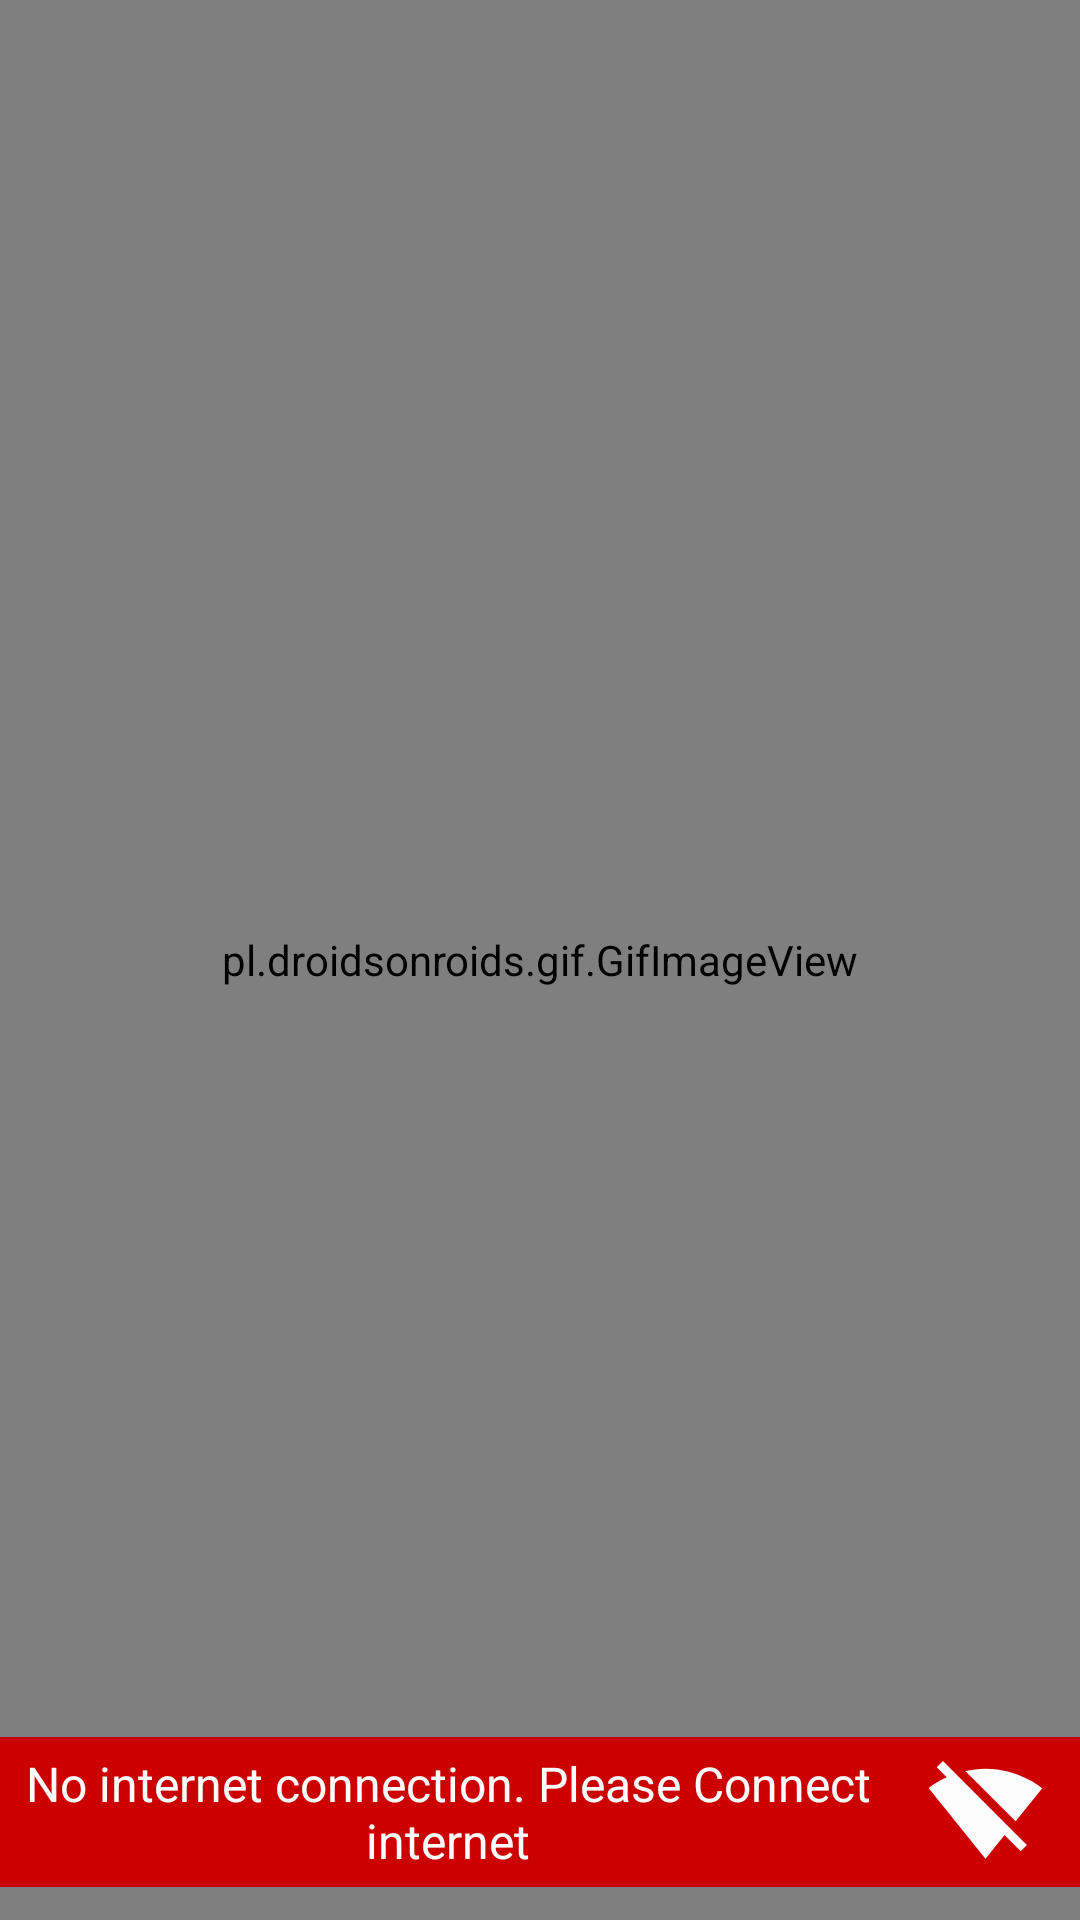

Named icons in this screenshot (1080 x 1920) and their bounding boxes, (x1, y1, x2, y2):
signal wifi off: (929, 1761, 1042, 1859)
